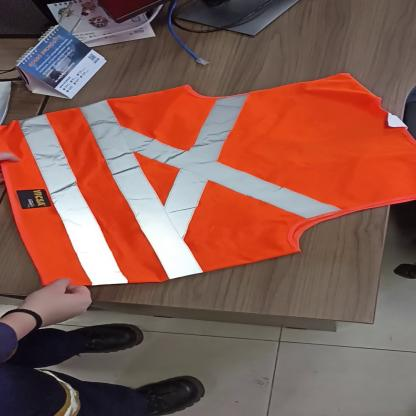colete: (2, 70, 416, 296)
